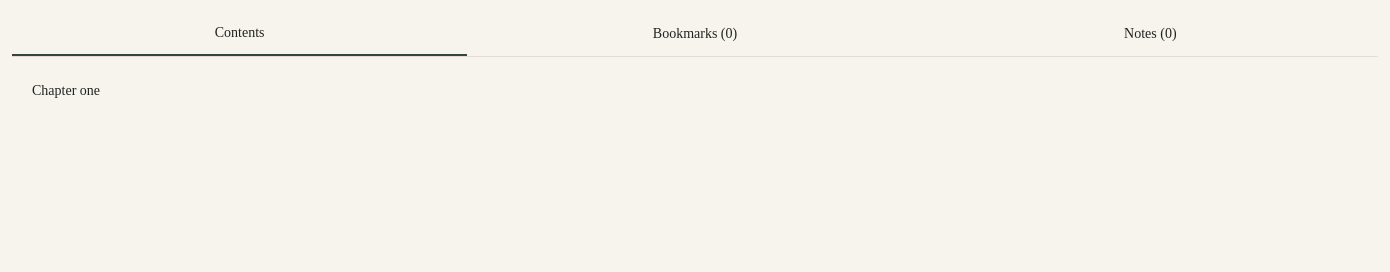
Test: ReaderSidebar › keeps bookmark and highlight counts distinct while exposing highlights without notes
Click the tab "Bookmarks (0)" at (695, 34), box [467, 12, 923, 56]
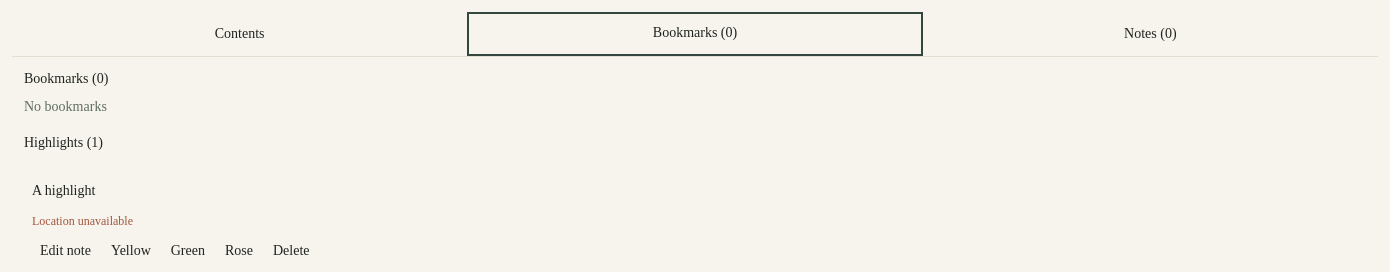
Check: the number of tabs "Bookmarks (0)" is 2, box [467, 12, 923, 56]; [24, 71, 108, 86]
Check: the text "Highlights (1)" is shown, box [24, 135, 103, 150]
Check: the button "A highlight" is shown, box [24, 169, 1366, 213]
